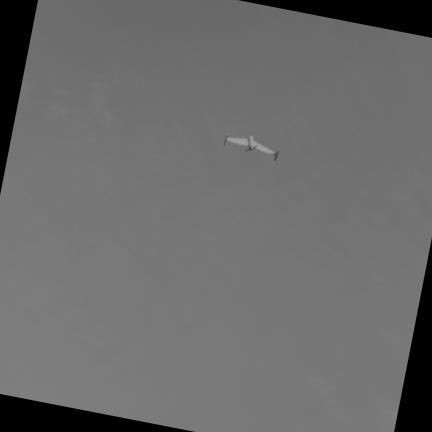Shahed: (224, 135, 278, 160)
